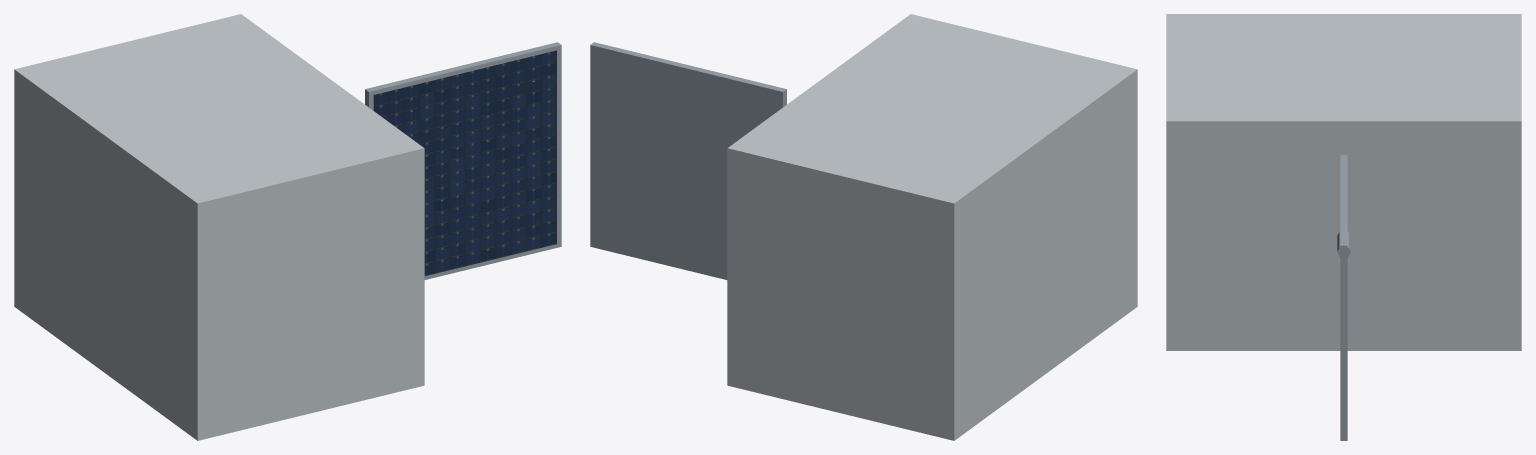
The model's file is ref-sa-200s-22229.glb.
The picture shows the model from 3 angles, left to right: view 1: azimuth 30°, elevation 25°; view 2: azimuth 150°, elevation 25°; view 3: azimuth 270°, elevation 25°; orthographic projection. The views are drawn at different scales.
Parts seen in each view (by area): view 1: Spacecraft body, Photovoltaic laminates, Array frame; view 2: Spacecraft body, Array frame; view 3: Spacecraft body, Array frame.
Part boxes in pixels (box(x1,y1,x2,y2)): Spacecraft body: box(14, 14, 424, 440); Photovoltaic laminates: box(373, 50, 556, 275); Array frame: box(365, 42, 561, 279); Spacecraft body: box(727, 14, 1137, 440); Array frame: box(590, 42, 786, 279); Spacecraft body: box(1166, 14, 1521, 350); Array frame: box(1340, 154, 1347, 440).
Bounding box in the file's own units: 2 × 1 × 1.4.
Materials: 3 (1 with a texture image).
